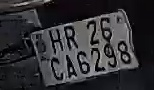2: (84, 18, 99, 46), (89, 46, 105, 72)
6: (74, 50, 92, 76), (98, 17, 115, 43)
8: (116, 39, 134, 67)
9: (102, 42, 119, 69)
A: (64, 53, 77, 80)
C: (49, 56, 65, 82)
H: (45, 28, 65, 56)
R: (62, 23, 80, 55)
